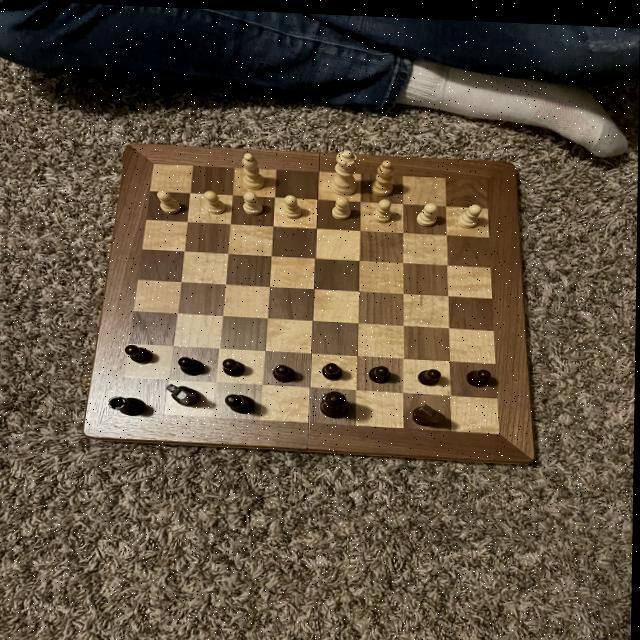bishop: (225, 390, 258, 413)
black-king: (164, 380, 203, 407), (411, 399, 448, 424)
black-knight: (124, 341, 157, 365), (176, 354, 208, 376), (221, 354, 248, 377), (465, 363, 493, 385), (271, 360, 299, 381), (367, 360, 393, 382), (417, 363, 444, 383), (321, 356, 344, 378)
black-pawn: (319, 385, 353, 417)
black-queen: (108, 392, 149, 418)
black-rook: (237, 149, 268, 189), (370, 155, 397, 196)
white-knight: (455, 198, 483, 227), (413, 197, 441, 225), (155, 187, 183, 214), (370, 194, 395, 222), (281, 191, 306, 219), (241, 188, 265, 215), (331, 192, 354, 220), (203, 188, 228, 213)
white-pawn: (329, 144, 360, 195)
